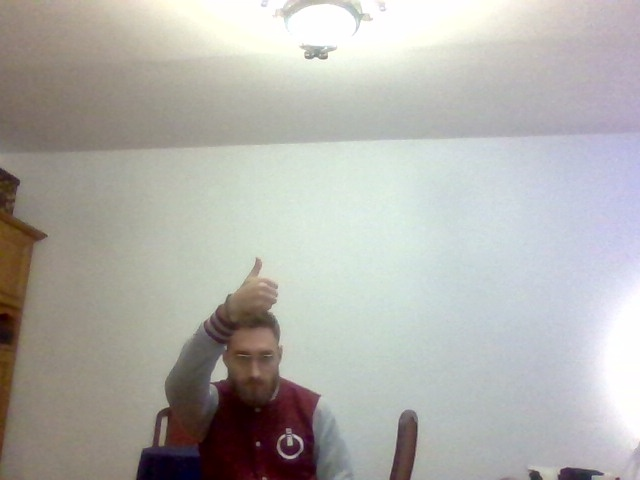ThumbsUp: (241, 257, 278, 315)
